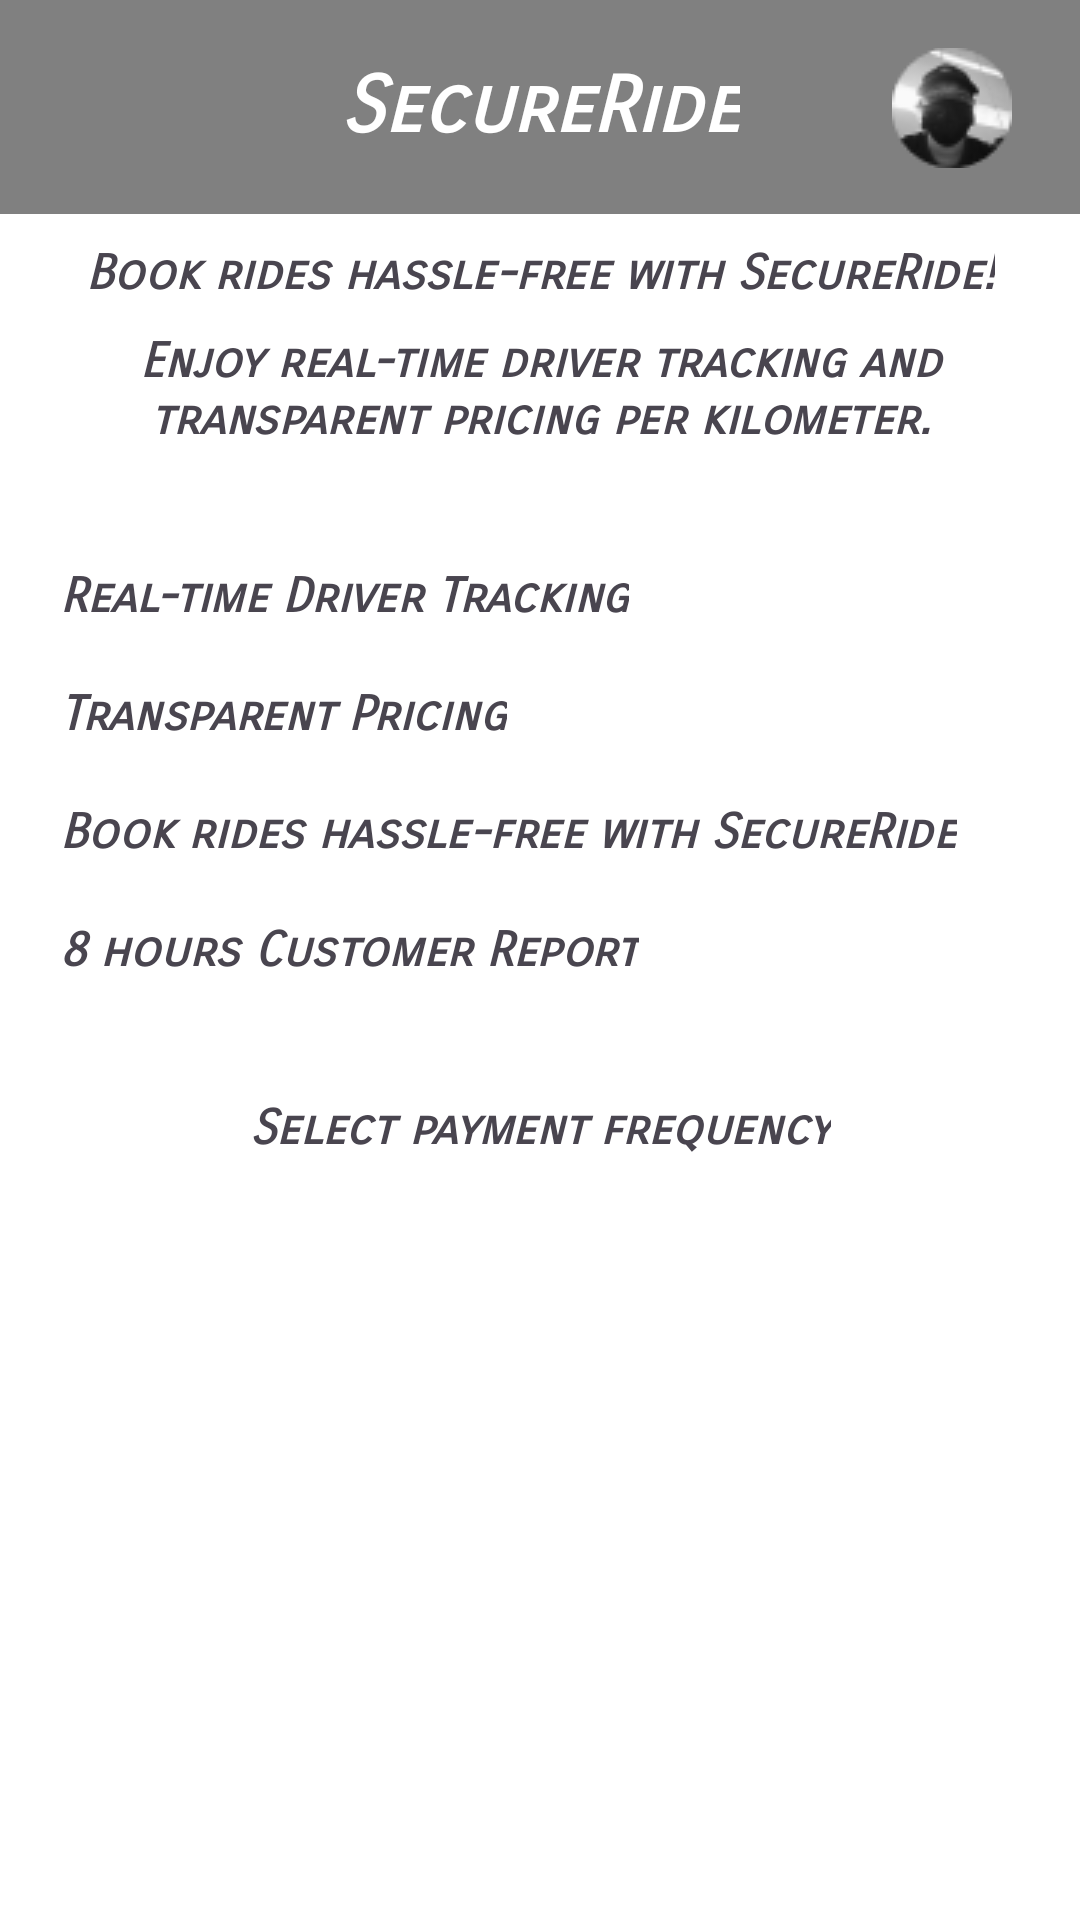

Screen size 1080×1920. Icon name, then its center in pixels as [x,y]:
profile: [952,108]
